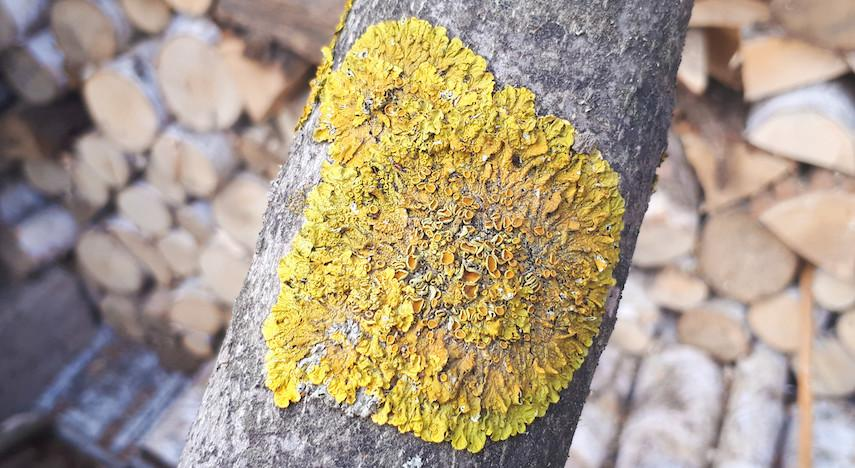lichen: (262, 19, 623, 452)
